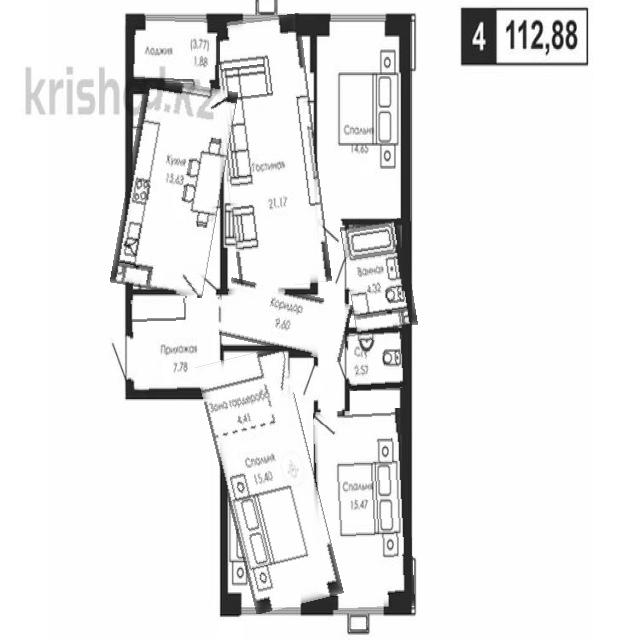balcony: (128, 17, 220, 83)
bathroom: (344, 220, 414, 332), (347, 332, 408, 391)
hallway: (220, 284, 351, 355), (129, 298, 224, 393)
kitchen: (119, 80, 229, 295)
living_room: (210, 348, 330, 611), (216, 16, 324, 290), (316, 409, 413, 609), (316, 21, 412, 221)
